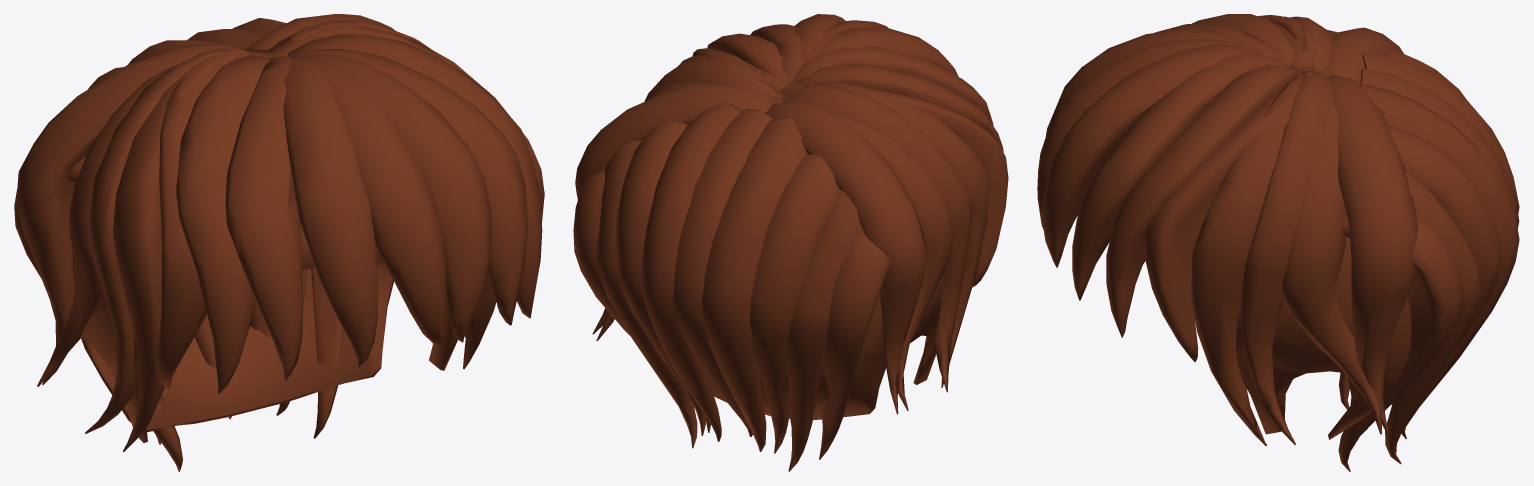
Rendered from hair-6-85f73f52.glb.
3 renders of one model, left to right at view 1: azimuth 30°, elevation 25°; view 2: azimuth 150°, elevation 25°; view 3: azimuth 270°, elevation 25°, orthographic. The views are drawn at different scales.
Parts seen in each view (by area): view 1: hair_6.001; view 2: hair_6.001; view 3: hair_6.001.
Part boxes in pixels (x1,y1,x2,y2): hair_6.001: (14,14,544,471); hair_6.001: (573,14,1008,471); hair_6.001: (1037,14,1519,471).
Bounding box in the file's own units: 1.82 × 1.87 × 2.04.
